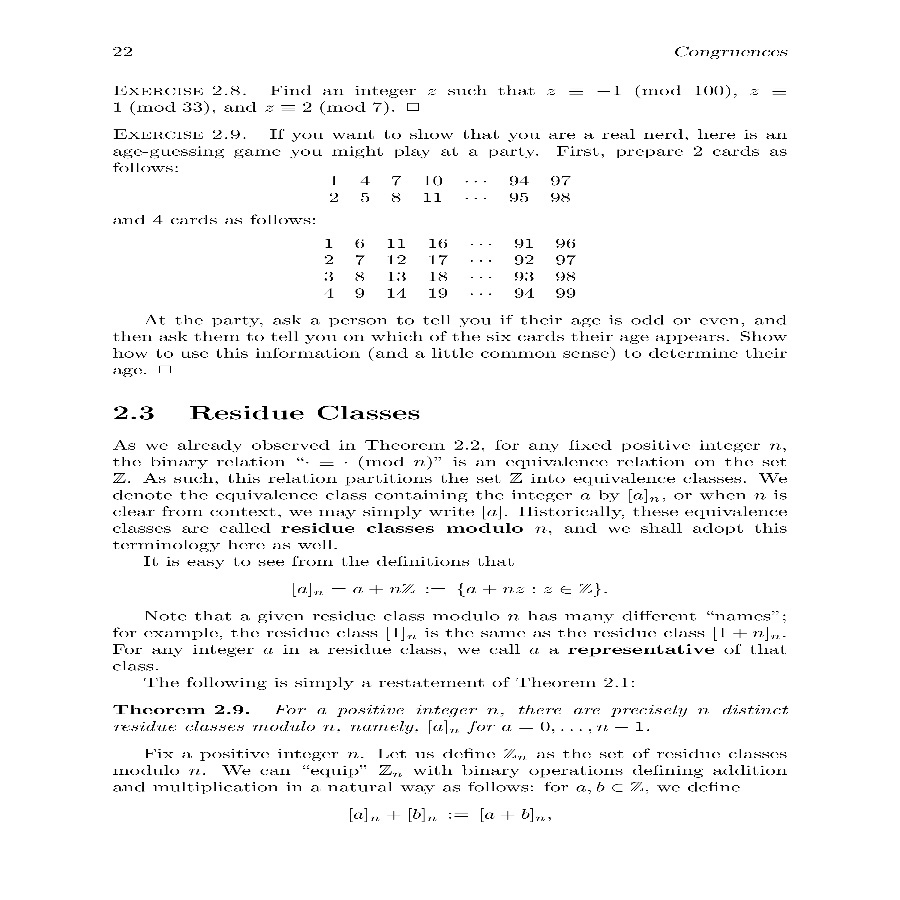eq: (288, 577, 602, 600), (346, 801, 557, 828)
